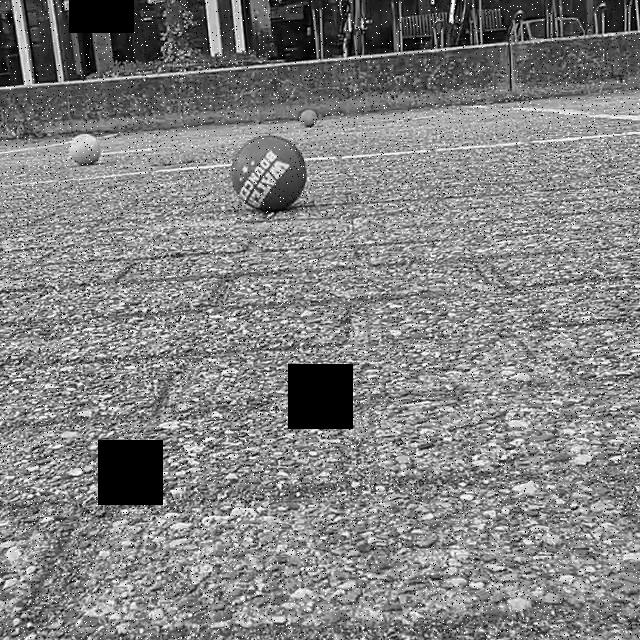ball: (68, 129, 102, 169), (298, 107, 318, 131)
